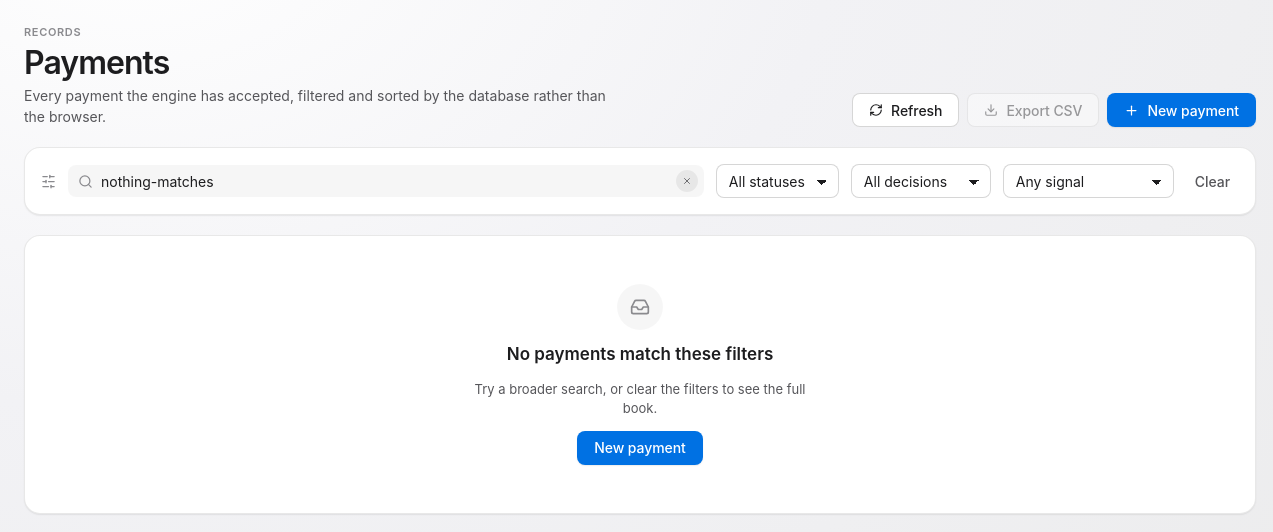
Test: payments page › offers a way out when a filter matches nothing
Expected: the text "No payments match these filters" is shown, [507, 342, 773, 368]
Click the button "Clear". click: (1212, 181)
box: [1186, 164, 1239, 198]
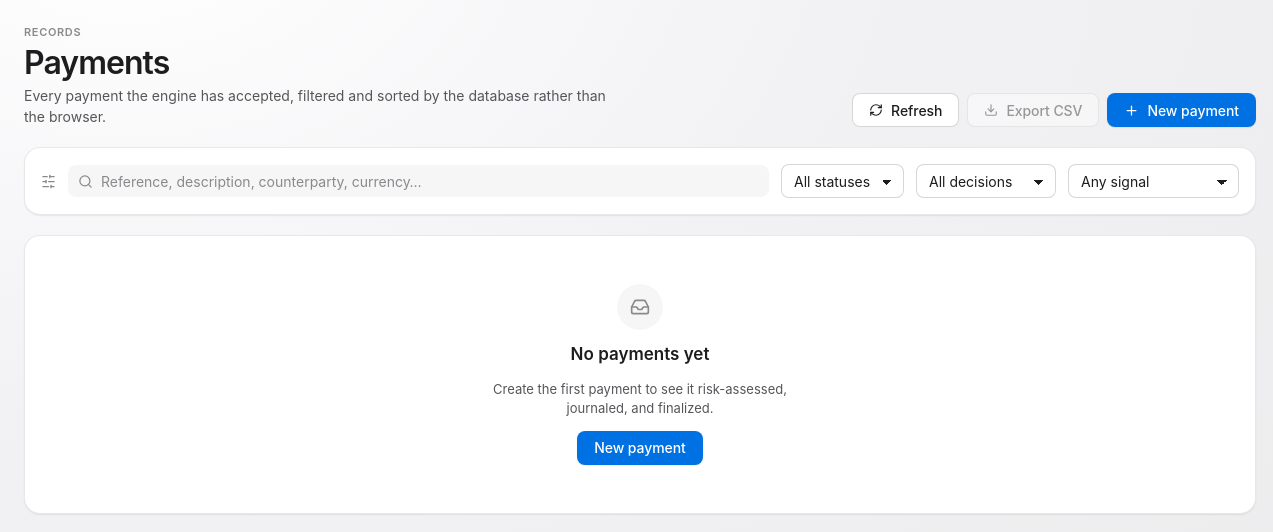
Expected: the button "Clear" is gone
